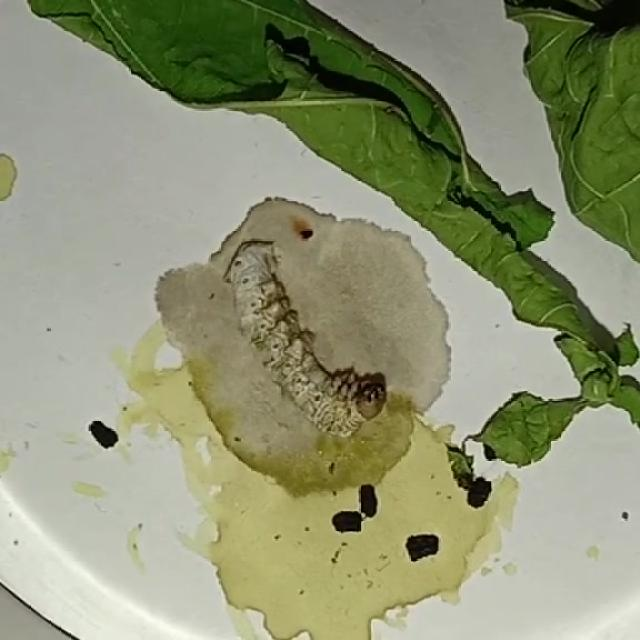Grasserie: (157, 207, 495, 518)
